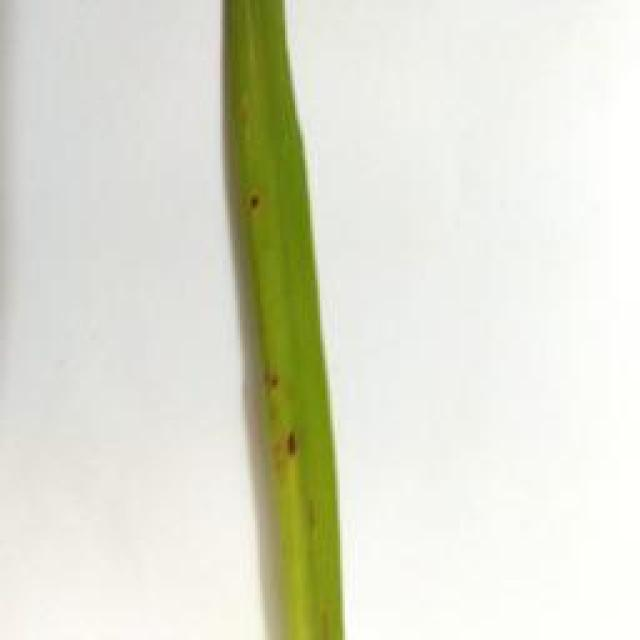Brown_Spot: (277, 400, 310, 484), (230, 180, 286, 225), (250, 355, 291, 408)
